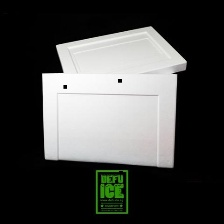foam_box: (34, 22, 191, 171)
